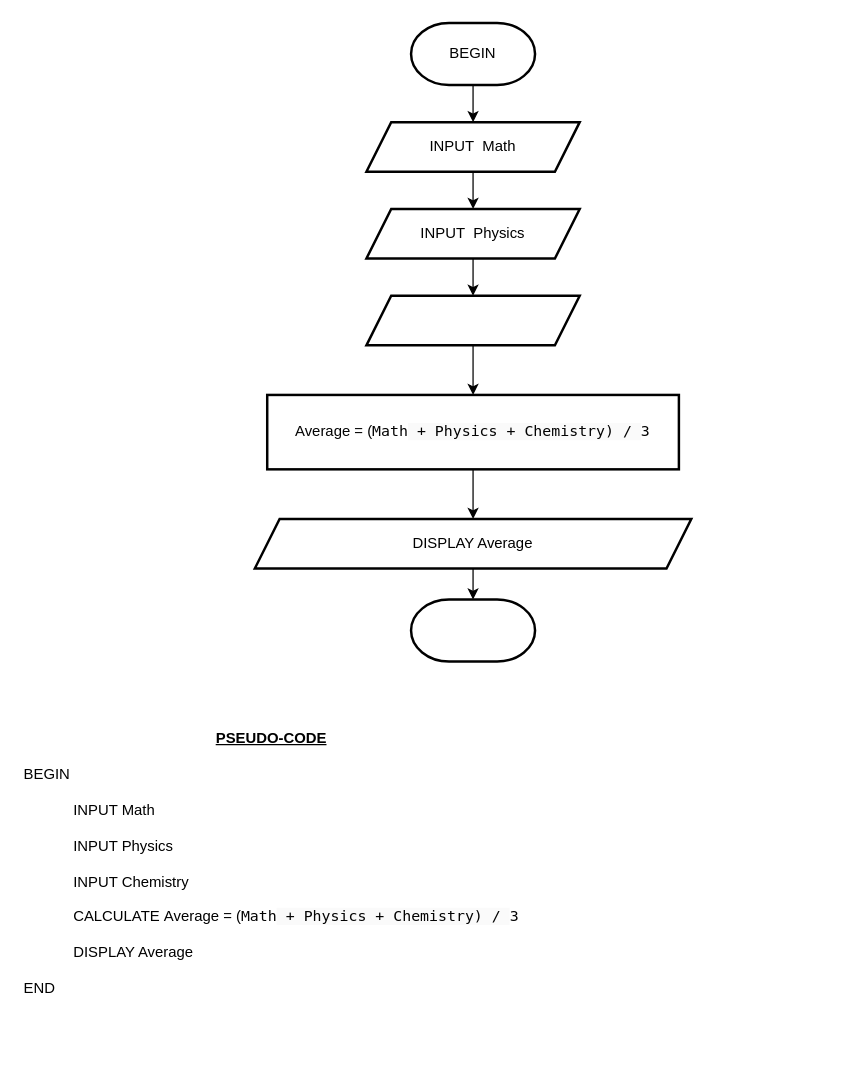
Image size: 861x1085. Some labels were removed from this diagram. The centre of each missing label's shape, as x and y in pixels:
"END" belongs at (472,630).
"INPUT Chemistry" belongs at (472,320).
